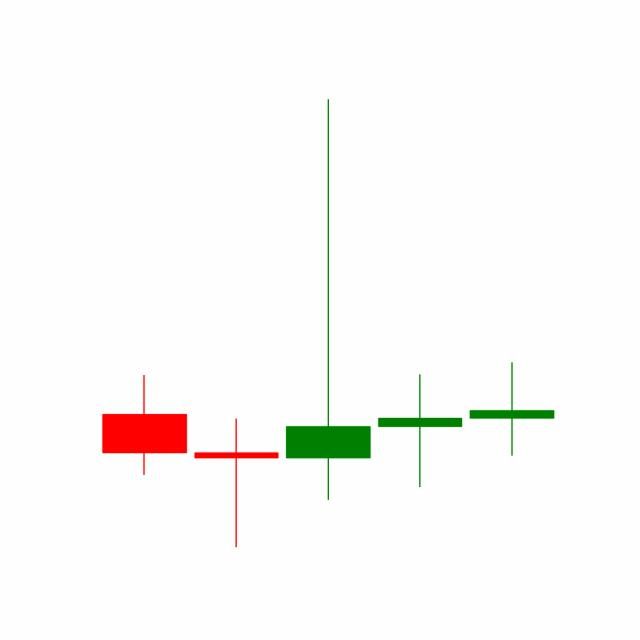Spinning Top: (373, 372, 467, 489)
